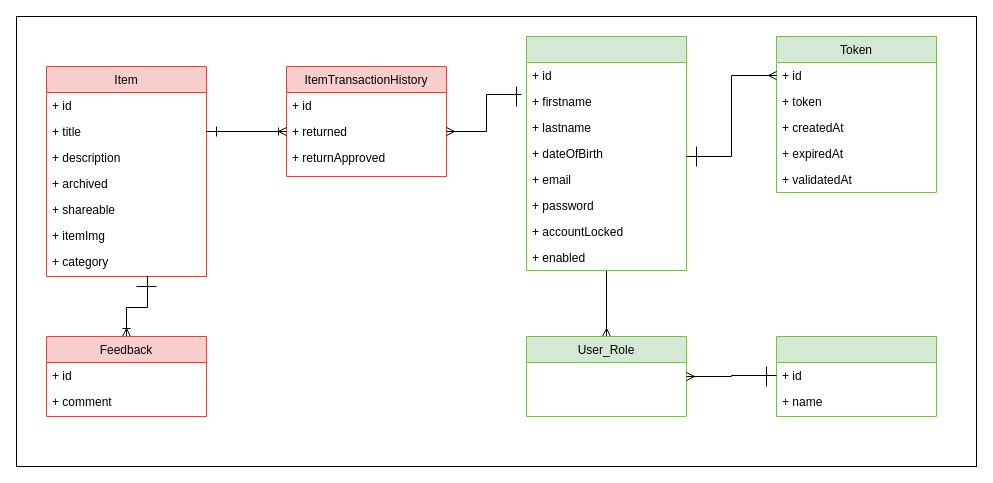
Some shapes in this 993 by 483 pixel diagram are drawn without their labels. Here are the shapes that lost their labels. From the top down, the box of each, then its label:
(526, 36, 686, 270): User
(776, 336, 936, 416): Role
